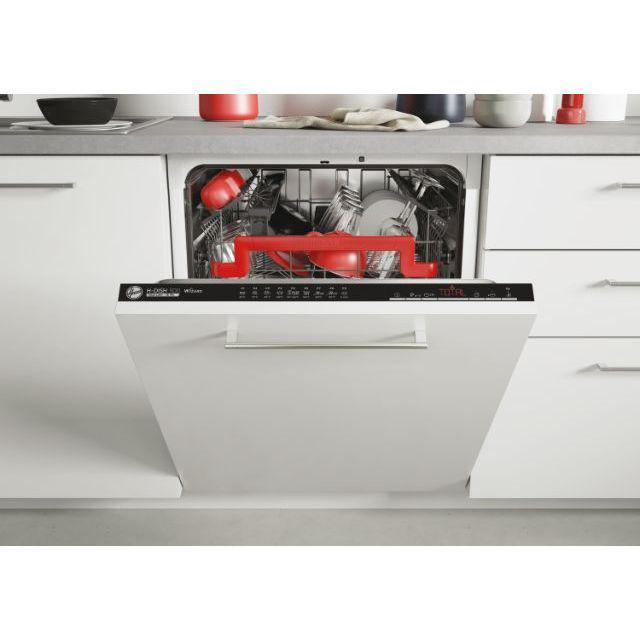dishwasher: (113, 149, 542, 508)
